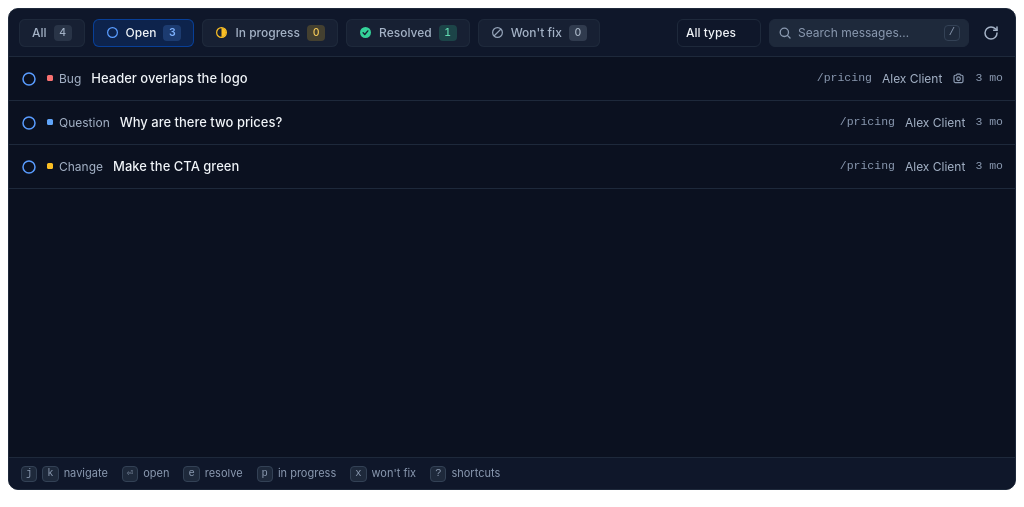
Test: InstaFixInbox — list & tabs › switches the filter when a status radio is clicked
Click the radio button labelled "Resolved 1": coordinates (408, 32) [346,18,470,46]
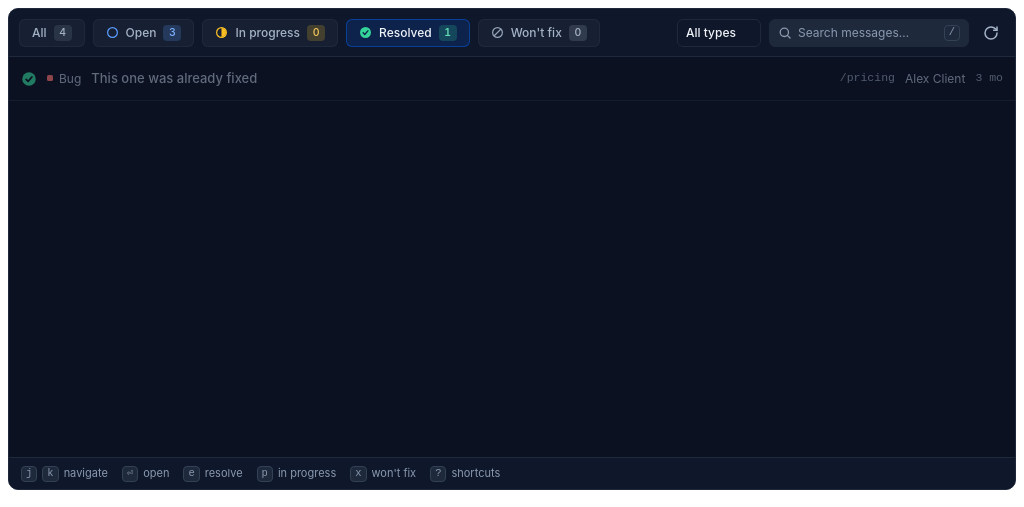
Now the number of options is 1, box [9,57,1015,101]
